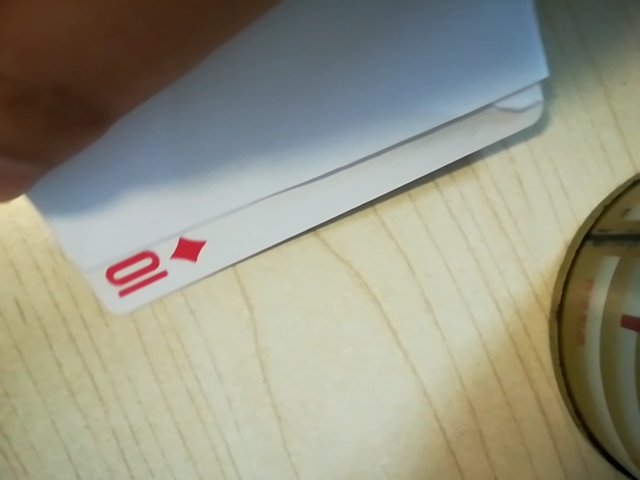fk 10: (92, 228, 209, 301)
